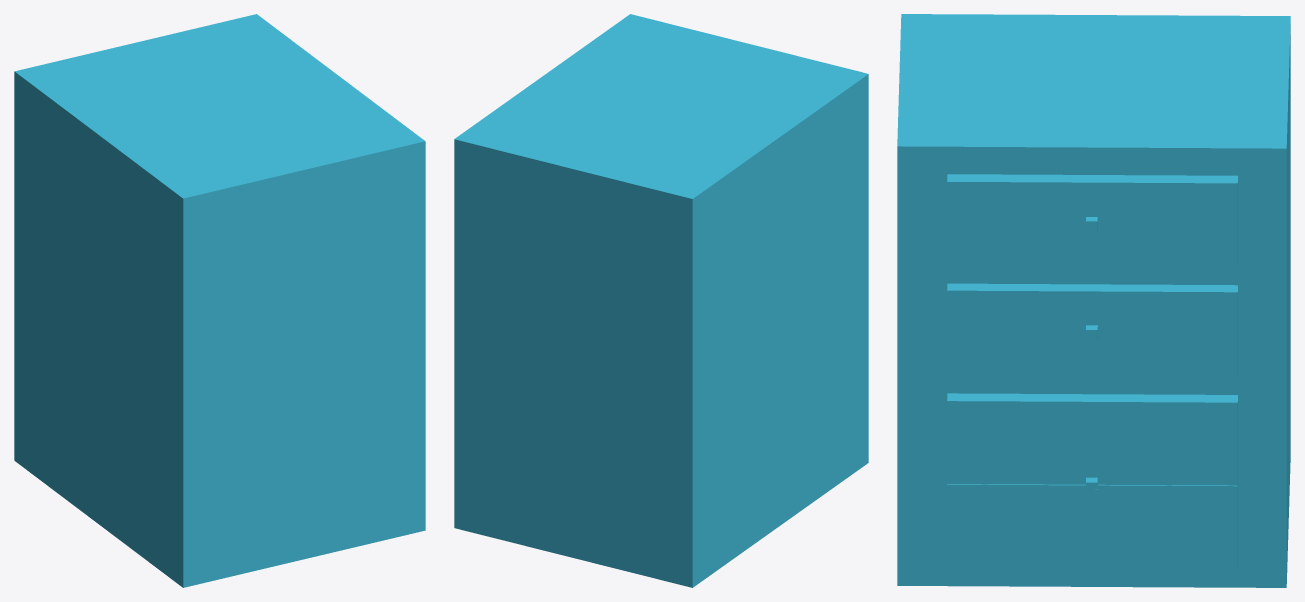
The model's file is drawers.dae.
The picture shows the model from 3 angles, left to right: view 1: azimuth 30°, elevation 25°; view 2: azimuth 150°, elevation 25°; view 3: azimuth 270°, elevation 25°; orthographic projection. The views are drawn at different scales.
Parts seen in each view (by area): view 1: Kitchen Cabinet; view 2: Kitchen Cabinet; view 3: Kitchen Cabinet.
Boxes of the visible parts, x1=… form: Kitchen Cabinet: x1=14, y1=14, x2=425, y2=587; Kitchen Cabinet: x1=454, y1=14, x2=868, y2=587; Kitchen Cabinet: x1=897, y1=14, x2=1290, y2=587.
Size of the model in its own units: 0.6984 by 0.7939 by 0.9783.
